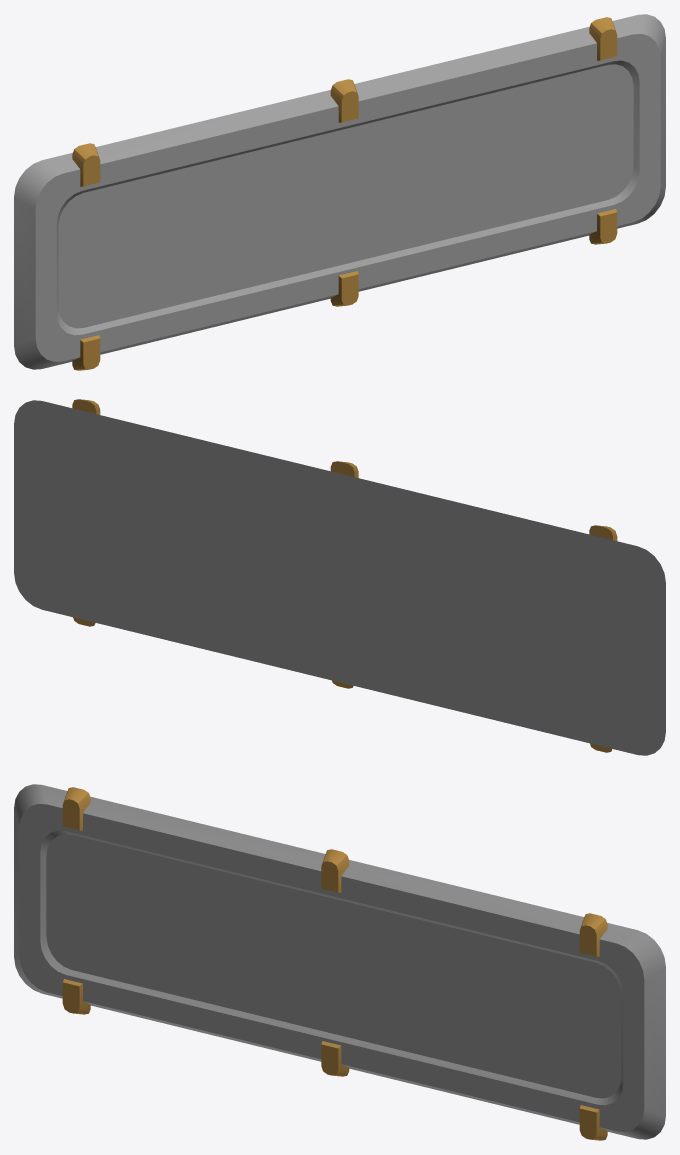
The model's file is Details_Plate_Long.glb.
3 renders of one model, top to bottom at view 1: azimuth 30°, elevation 25°; view 2: azimuth 150°, elevation 25°; view 3: azimuth 330°, elevation 25°, orthographic.
Parts seen in each view (by area): view 1: Details_Plate_Long; view 2: Details_Plate_Long; view 3: Details_Plate_Long.
Part boxes in pixels (box(x1,y1,x2,y2)): Details_Plate_Long: box(14, 14, 665, 370); Details_Plate_Long: box(14, 399, 665, 755); Details_Plate_Long: box(14, 784, 665, 1140).
Bounding box in the file's own units: 0.3577 × 0.1184 × 0.00975.
